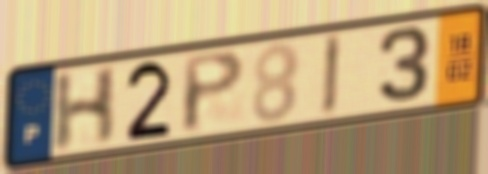2: (124, 58, 173, 144)
3: (375, 25, 435, 106)
8: (249, 39, 304, 127)
H: (50, 62, 122, 156)
I: (319, 30, 344, 120)
P: (180, 47, 248, 137)
